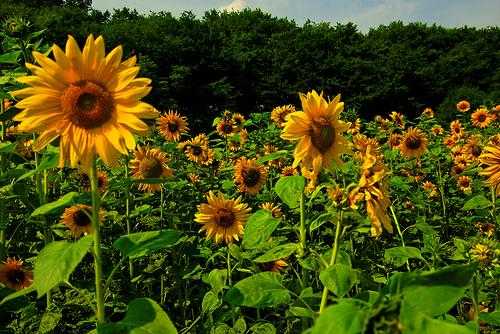sunflower: (14, 35, 157, 174), (282, 89, 352, 187), (196, 191, 251, 242), (128, 145, 170, 195), (472, 137, 500, 200), (59, 203, 107, 237), (235, 155, 267, 193), (157, 111, 189, 142), (397, 126, 428, 158), (179, 136, 208, 164), (469, 107, 492, 126)
